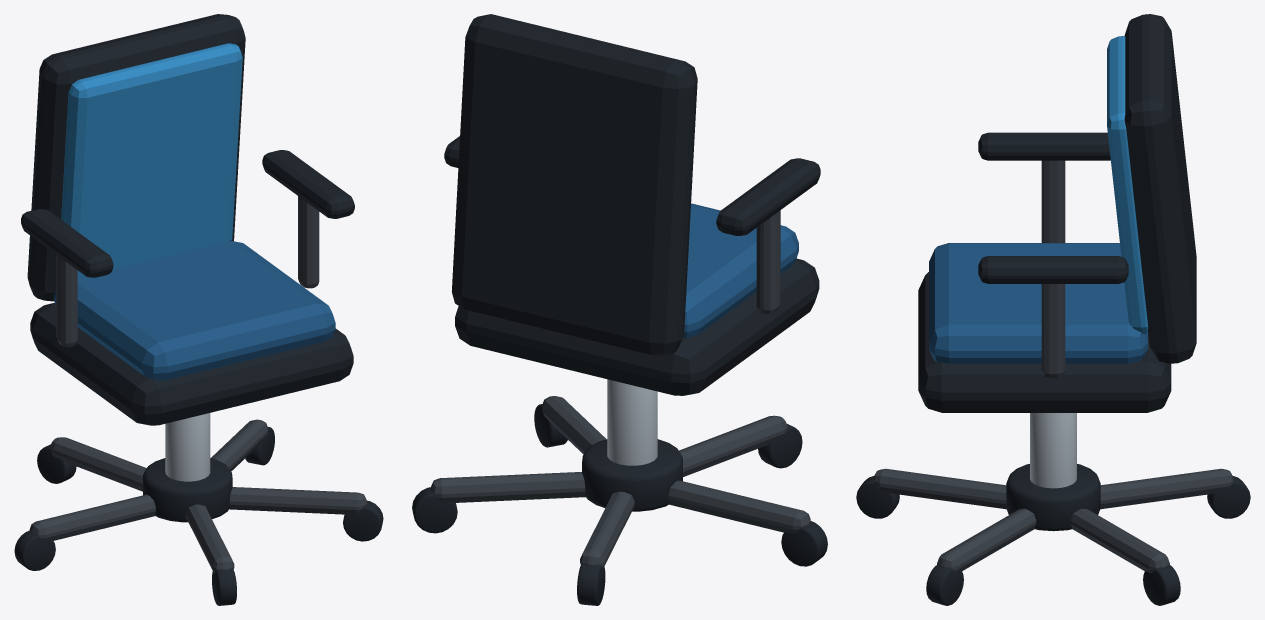
File: office-chair-blender.glb
The picture shows the model from 3 angles, left to right: view 1: azimuth 30°, elevation 25°; view 2: azimuth 150°, elevation 25°; view 3: azimuth 270°, elevation 25°; orthographic projection. The views are drawn at different scales.
Parts seen in each view (by area): view 1: chair · Soft black, chair · Blue accent fabric, chair · Deep blue fabric, chair · Graphite metal, chair · Brushed aluminum; view 2: chair · Soft black, chair · Graphite metal, chair · Deep blue fabric, chair · Brushed aluminum; view 3: chair · Soft black, chair · Deep blue fabric, chair · Graphite metal, chair · Blue accent fabric, chair · Brushed aluminum.
Part boxes in pixels (left/top/right/bottom): chair · Soft black: left=14, top=14, right=383, bottom=605; chair · Blue accent fabric: left=61, top=43, right=242, bottom=278; chair · Deep blue fabric: left=54, top=241, right=335, bottom=380; chair · Graphite metal: left=29, top=196, right=367, bottom=573; chair · Brushed aluminum: left=165, top=413, right=210, bottom=481; chair · Soft black: left=412, top=14, right=827, bottom=605; chair · Graphite metal: left=430, top=210, right=810, bottom=569; chair · Deep blue fabric: left=682, top=203, right=798, bottom=338; chair · Brushed aluminum: left=607, top=379, right=657, bottom=465; chair · Soft black: left=856, top=14, right=1250, bottom=605; chair · Deep blue fabric: left=929, top=243, right=1147, bottom=363; chair · Graphite metal: left=873, top=160, right=1233, bottom=573; chair · Blue accent fabric: left=1107, top=36, right=1148, bottom=333; chair · Brushed aluminum: left=1030, top=413, right=1076, bottom=488.
Size of the model in its own units: 0.8756 by 1.24 by 0.9196.
